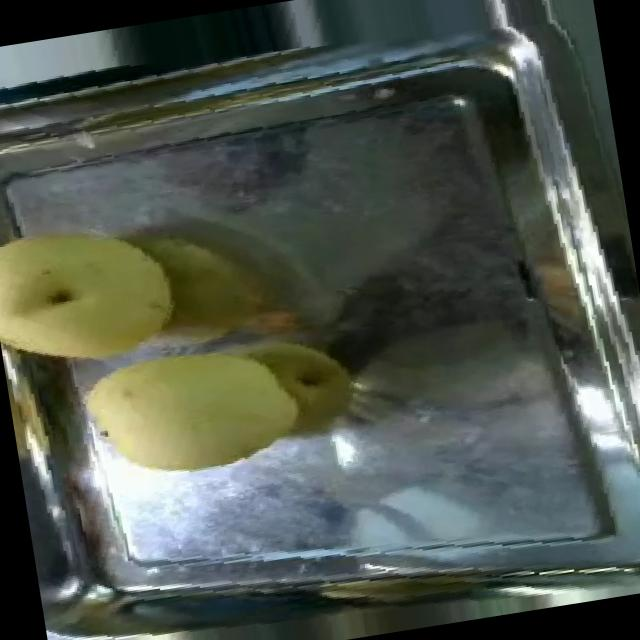Fruit: (56, 301, 326, 509), (0, 193, 200, 390)
